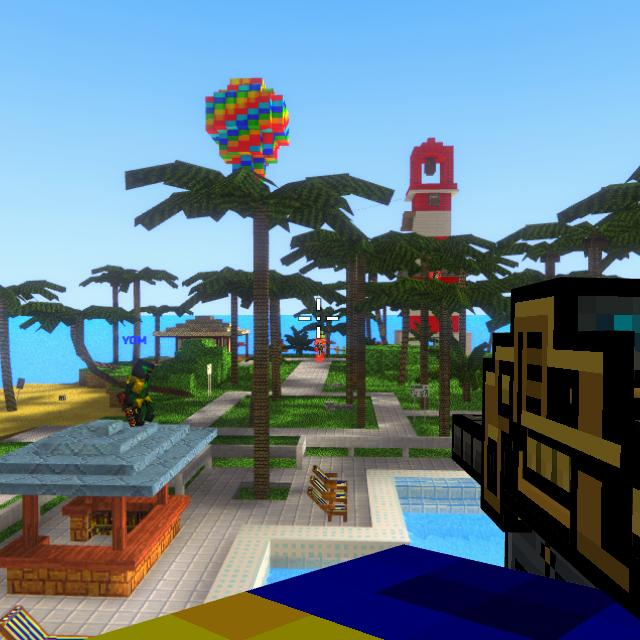Enemy: (315, 340, 325, 359)
